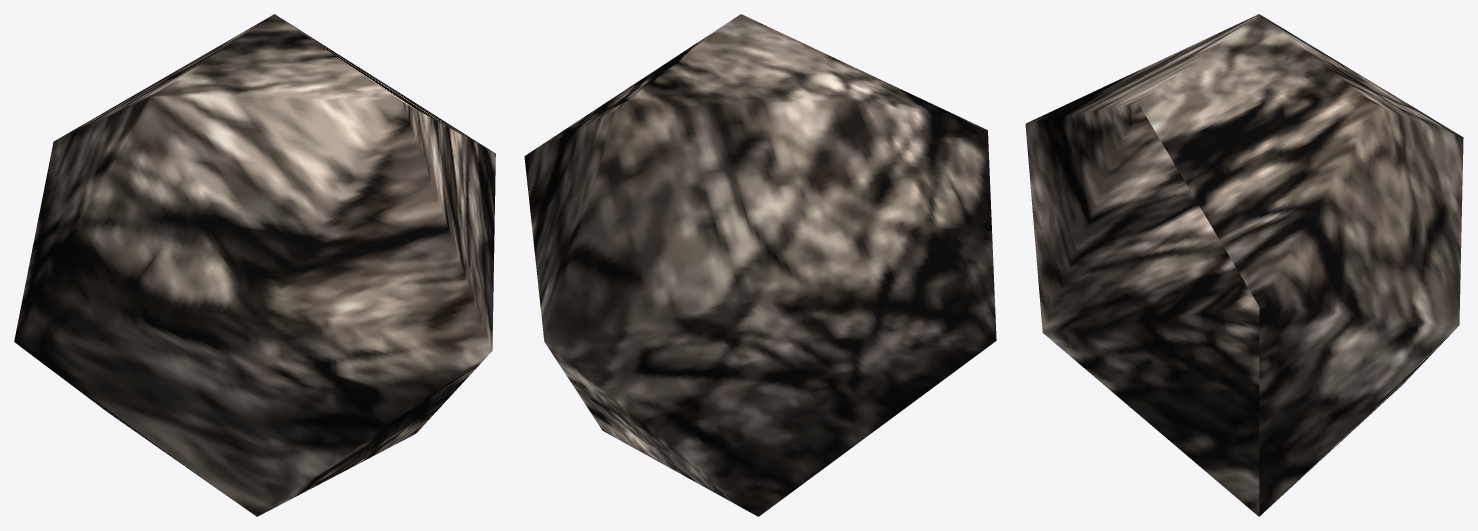
Rendered from RockProjectile0.fbx.
3 renders of one model, left to right at view 1: azimuth 30°, elevation 25°; view 2: azimuth 150°, elevation 25°; view 3: azimuth 270°, elevation 25°, orthographic. The views are drawn at different scales.
Visible parts, largest first — view 1: Small; view 2: Small; view 3: Small.
Part boxes in pixels (<box>): Small: <box>14,14,495,516</box>; Small: <box>524,14,996,516</box>; Small: <box>1025,14,1463,516</box>.
Bounding box in the file's own units: 217 × 173 × 180.
